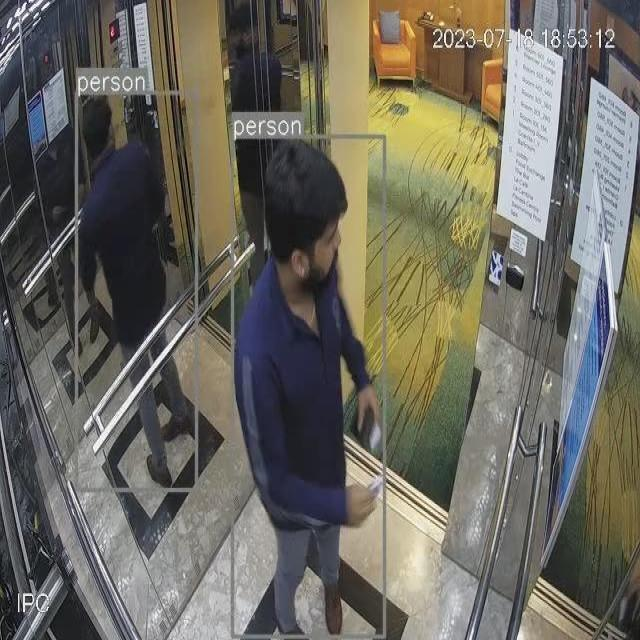person: (234, 138, 386, 638), (75, 92, 198, 492)
